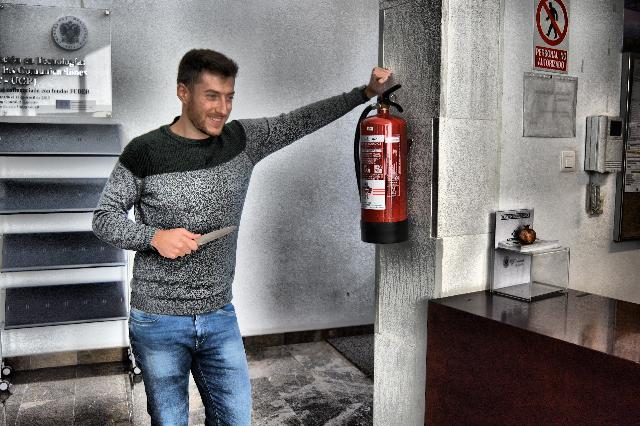knife: (185, 223, 239, 249)
